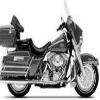faced: (32, 45, 72, 78)
